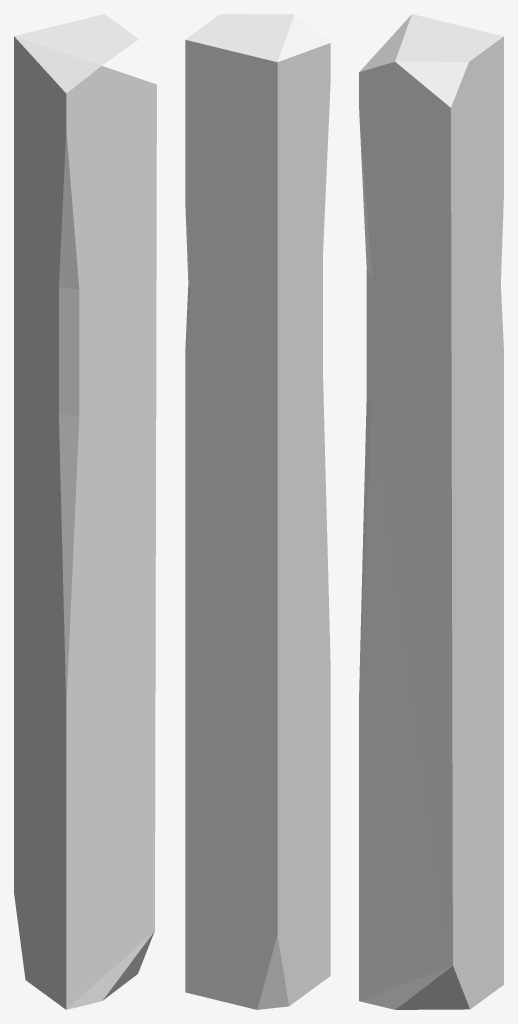
File: Bld_02_Fence_Wood_Pole_Worned_01.glb
3 views of the same model, side by side, from view 1: azimuth 30°, elevation 25°; view 2: azimuth 150°, elevation 25°; view 3: azimuth 330°, elevation 25° (orthographic).
Visible parts, largest first — view 1: Bld_02_Fence_Wood_Pole_Worned_01; view 2: Bld_02_Fence_Wood_Pole_Worned_01; view 3: Bld_02_Fence_Wood_Pole_Worned_01.
Part boxes in pixels (x1,y1,x2,y2): Bld_02_Fence_Wood_Pole_Worned_01: (14,14,156,1009); Bld_02_Fence_Wood_Pole_Worned_01: (185,14,330,1009); Bld_02_Fence_Wood_Pole_Worned_01: (359,14,503,1009).
Bounding box in the file's own units: 0.155 × 1.53 × 0.155.
1 material, 1 textured.
